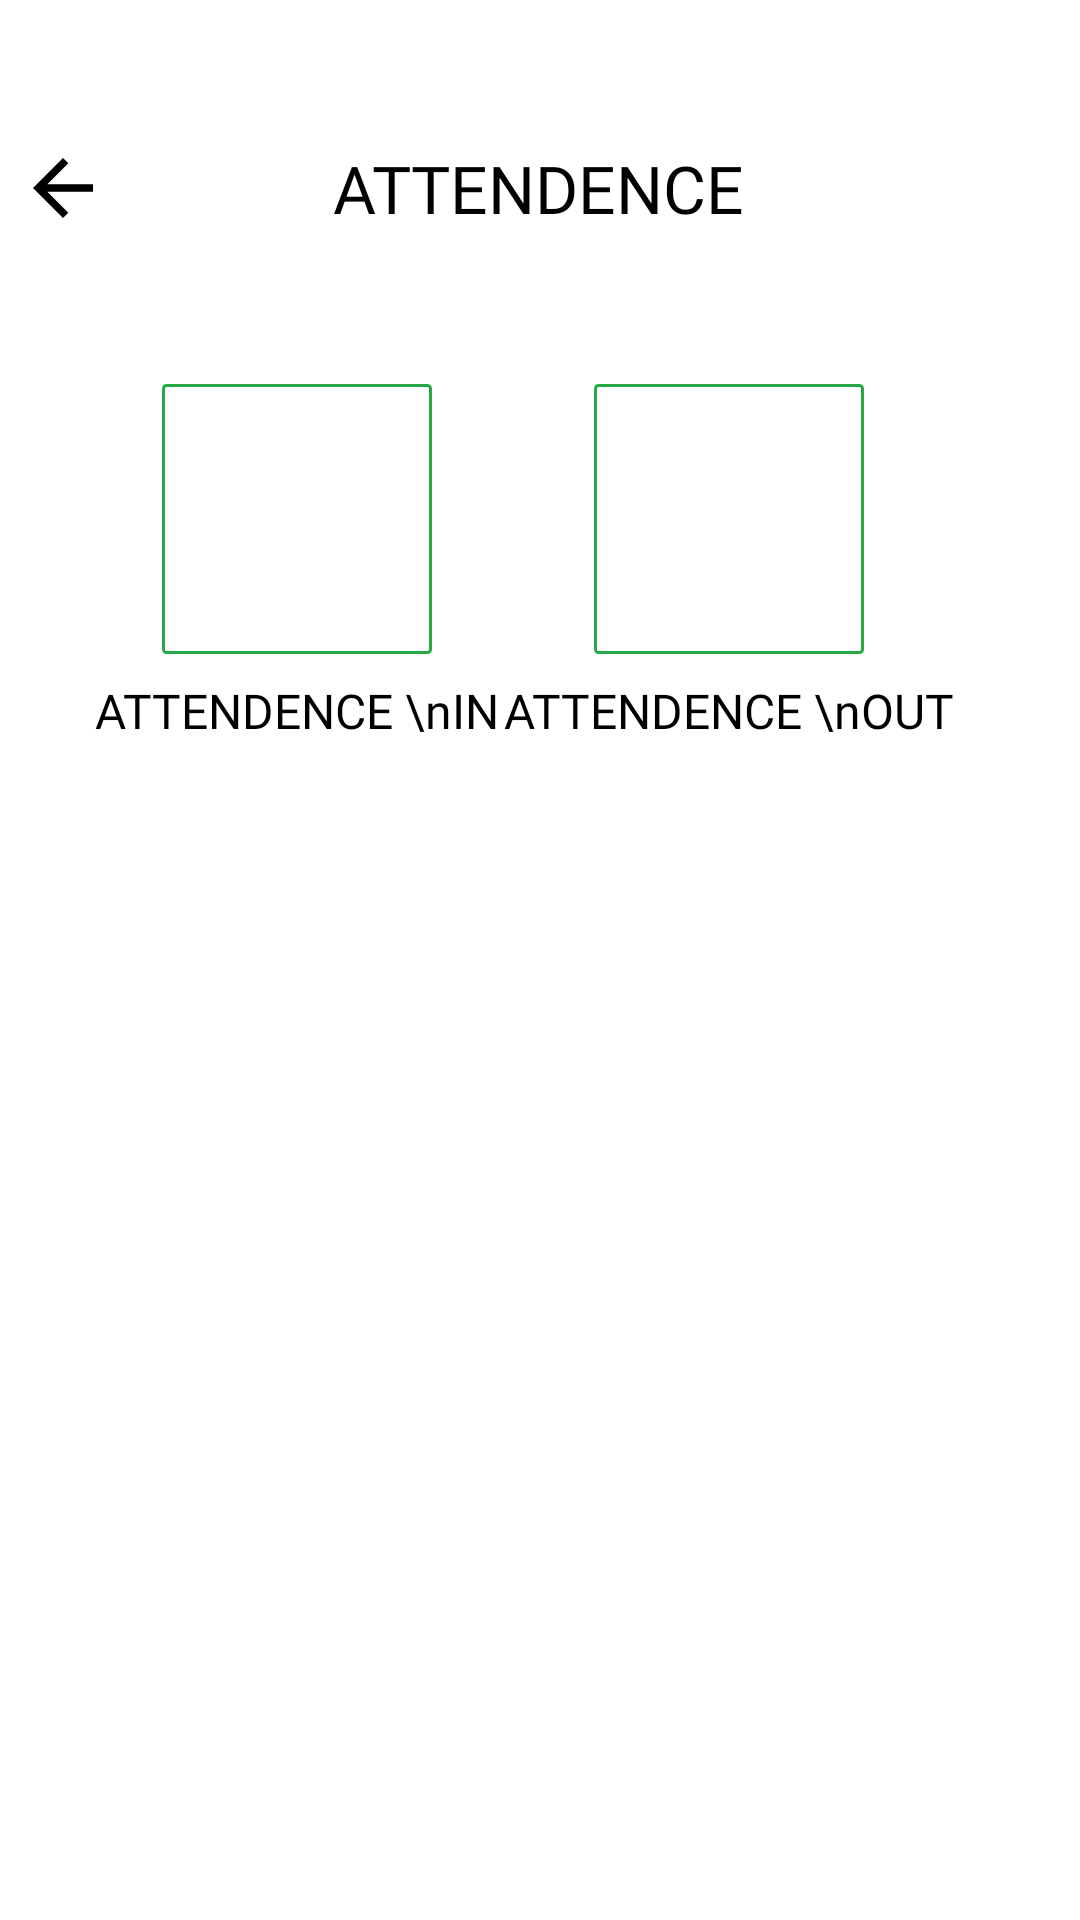

Screen size 1080w x 1920h. Icon name, then its box in pixels as detection(x1, y1, x2, y2):
arrow back: detection(33, 158, 93, 218)
